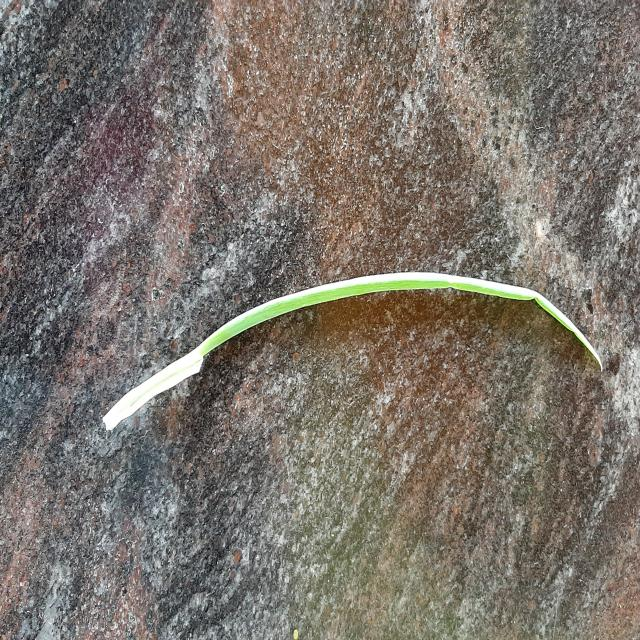onion: (102, 271, 601, 431)
